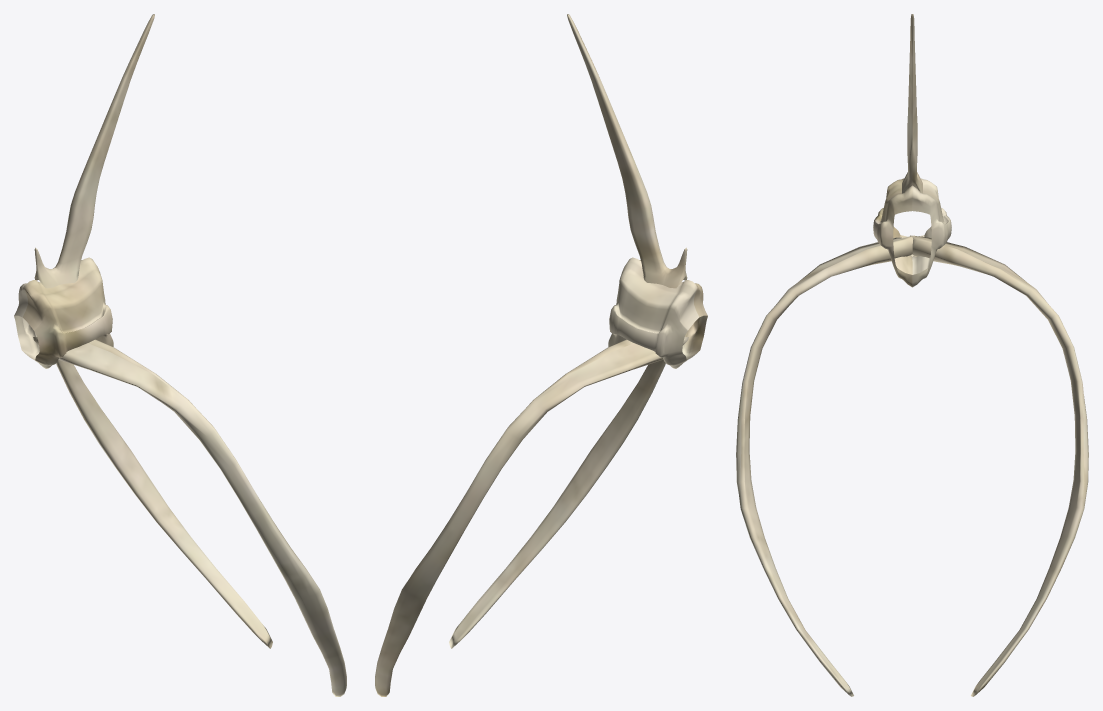
Rendered from bagian2.glb.
The picture shows the model from 3 angles, left to right: view 1: azimuth 30°, elevation 25°; view 2: azimuth 150°, elevation 25°; view 3: azimuth 270°, elevation 25°; orthographic projection. The views are drawn at different scales.
Parts seen in each view (by area): view 1: polySurface202; view 2: polySurface202; view 3: polySurface202.
Boxes of the visible parts, bbox=[...] form: polySurface202: bbox=[14, 14, 346, 696]; polySurface202: bbox=[375, 14, 707, 696]; polySurface202: bbox=[736, 14, 1088, 696].
Bounding box in the file's own units: 0.0356 × 0.0825 × 0.0427.
1 material, 1 textured.
